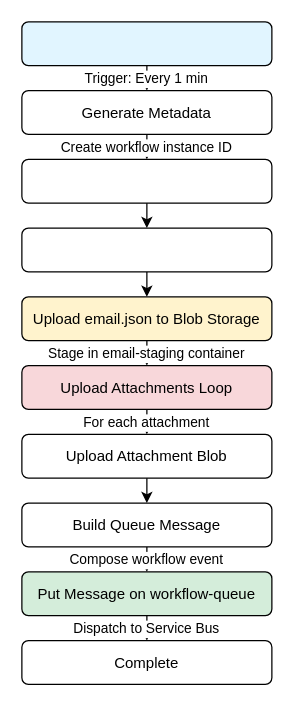
Image size: 294x706. Some labels were removed from this diagram. Each missing label, with the box of its shape:
Create Email JSON: (21, 227, 272, 272)
Email Arrives in Shared Mailbox: (21, 21, 272, 66)
Get Attachment Names: (21, 158, 272, 203)
